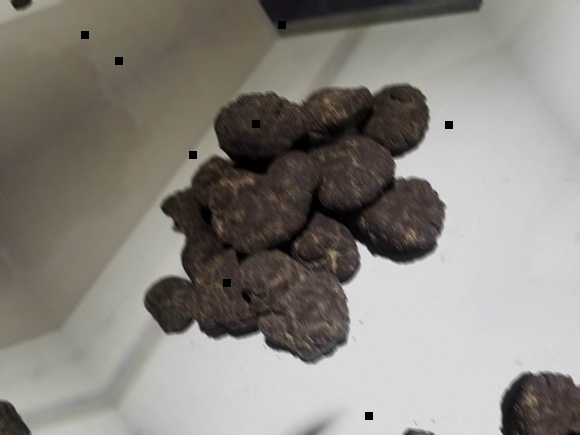halobolite: (243, 239, 347, 375), (221, 147, 331, 248), (212, 81, 306, 177), (290, 123, 401, 203), (372, 177, 455, 267), (296, 70, 377, 153), (353, 84, 441, 153), (160, 180, 226, 269), (130, 272, 200, 340)
